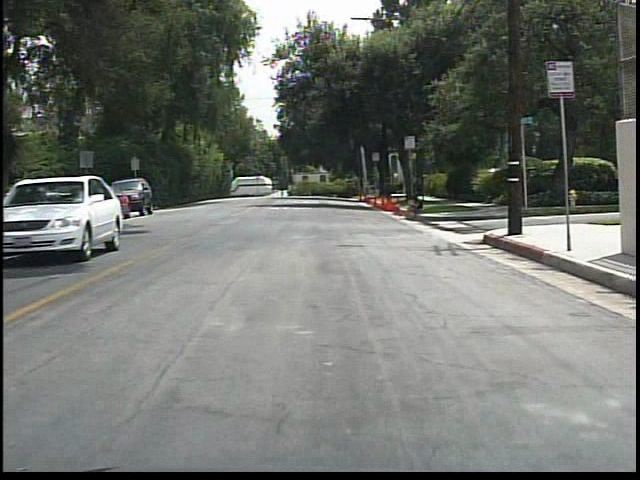person: (402, 190, 430, 221)
